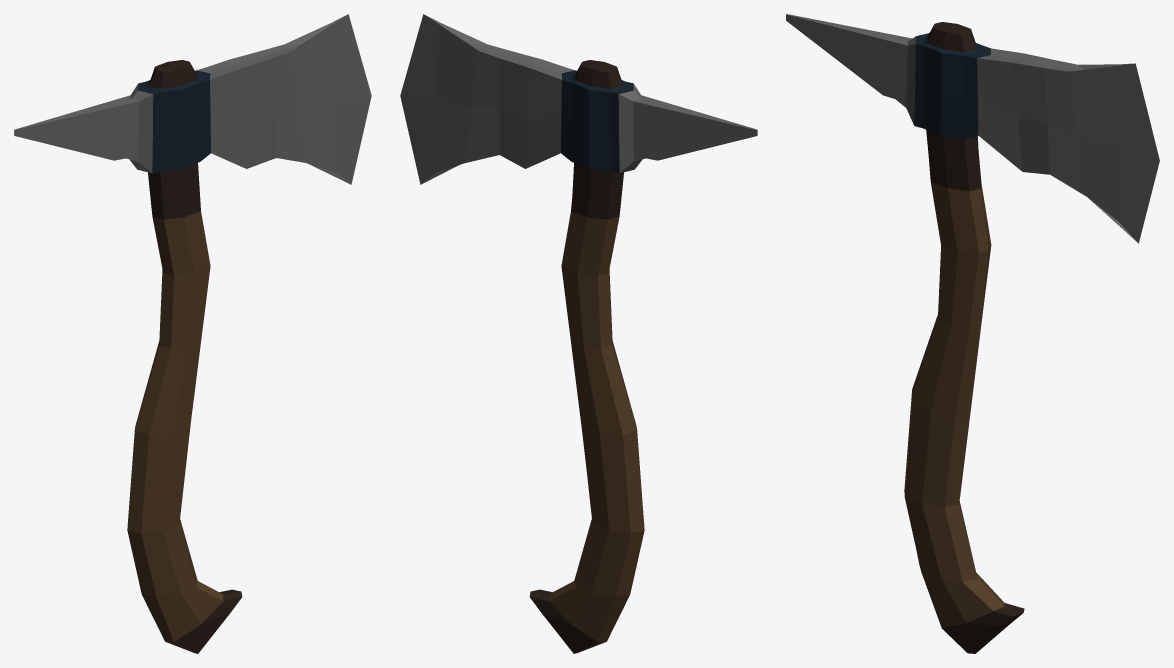
The model's file is Tomahawk.fbx.
3 views of the same model, side by side, from view 1: azimuth 30°, elevation 25°; view 2: azimuth 150°, elevation 25°; view 3: azimuth 330°, elevation 25° (orthographic). The views are drawn at different scales.
Visible parts, largest first — view 1: tomahawk; view 2: tomahawk; view 3: tomahawk.
Part boxes in pixels (x1,y1,x2,y2): tomahawk: (14, 14, 371, 653); tomahawk: (400, 14, 757, 653); tomahawk: (786, 14, 1159, 653).
Bounding box in the file's own units: 144 × 231 × 14.78.
